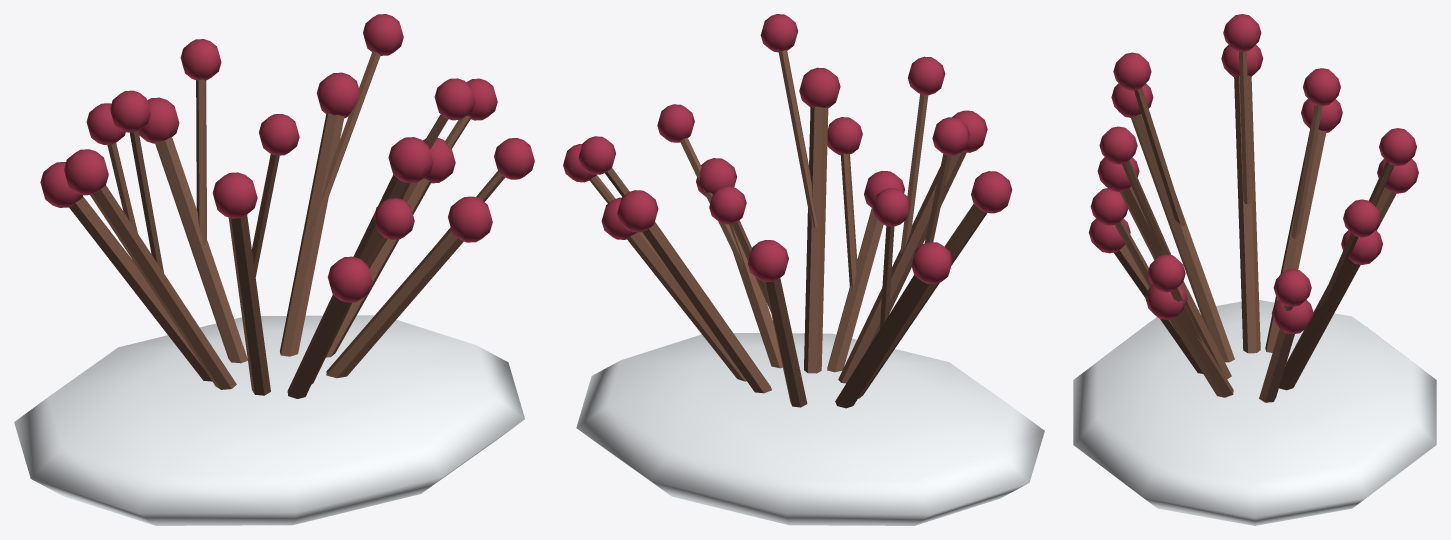
File: alpine-snow-village-winter-rowan-bush-1d6d449f__19790.glb
The picture shows the model from 3 angles, left to right: view 1: azimuth 30°, elevation 25°; view 2: azimuth 150°, elevation 25°; view 3: azimuth 270°, elevation 25°; orthographic projection. The views are drawn at different scales.
Visible parts, largest first — view 1: winter-rowan-bush-snow, winter-rowan-bush-wood, winter-rowan-bush-berry; view 2: winter-rowan-bush-snow, winter-rowan-bush-wood, winter-rowan-bush-berry; view 3: winter-rowan-bush-snow, winter-rowan-bush-wood, winter-rowan-bush-berry.
Boxes of the visible parts, x1,y1,x2,y2 form: winter-rowan-bush-snow: (14,315,524,525); winter-rowan-bush-wood: (69,51,504,398); winter-rowan-bush-berry: (40,14,534,302); winter-rowan-bush-snow: (576,333,1044,525); winter-rowan-bush-wood: (589,50,987,408); winter-rowan-bush-berry: (563,14,1011,284); winter-rowan-bush-snow: (1073,300,1436,525); winter-rowan-bush-wood: (1114,51,1396,402); winter-rowan-bush-berry: (1088,14,1418,334).
Bounding box in the file's own units: 1.32 × 1.09 × 0.951.
